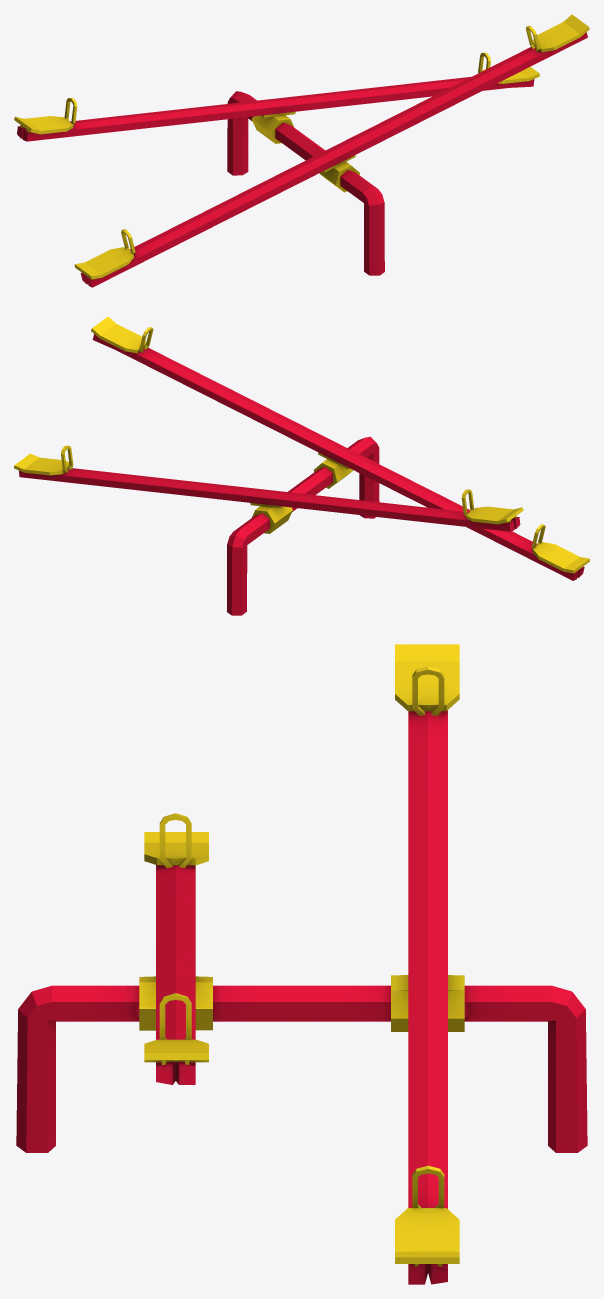
File: fBaX63DY389.glb
3 views of the same model, one above another, from view 1: azimuth 30°, elevation 25°; view 2: azimuth 150°, elevation 25°; view 3: azimuth 270°, elevation 25° (orthographic). The views are drawn at different scales.
Parts seen in each view (by area): view 1: SeeSaw_Mesh; view 2: SeeSaw_Mesh; view 3: SeeSaw_Mesh.
Part boxes in pixels (bbox=[...]): SeeSaw_Mesh: bbox=[14, 14, 589, 287]; SeeSaw_Mesh: bbox=[14, 316, 589, 615]; SeeSaw_Mesh: bbox=[16, 644, 587, 1284].
Size of the model in its own units: 3.12 by 1 by 1.55.
1 material, 1 textured.
